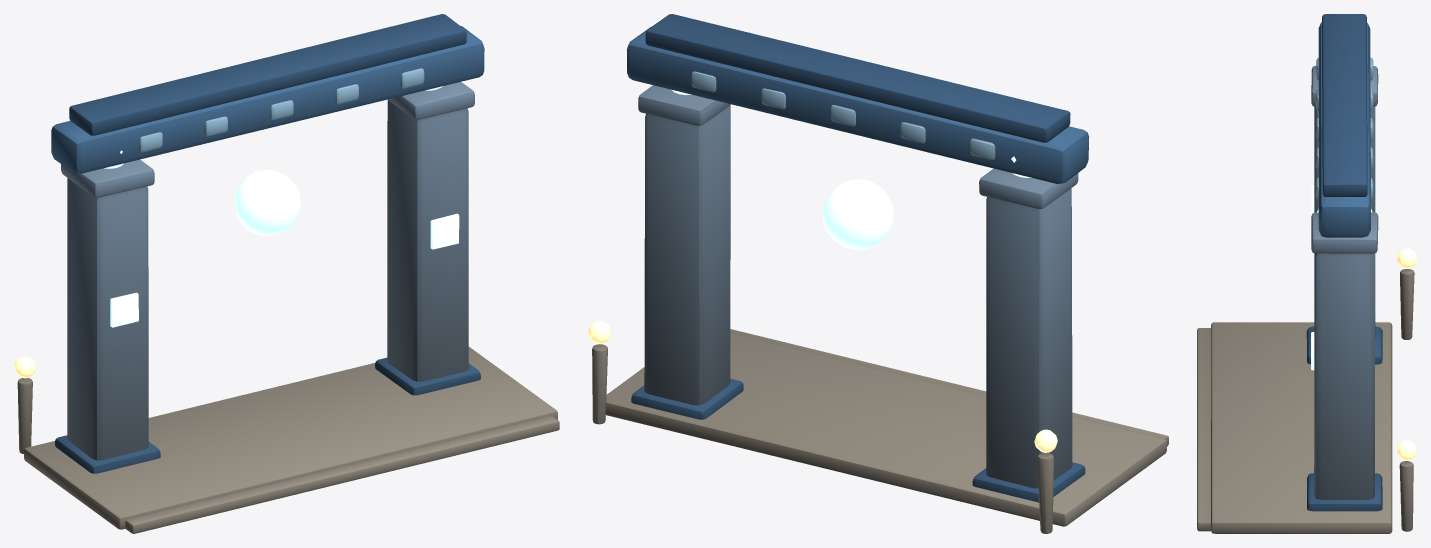
3 renders of one model, left to right at view 1: azimuth 30°, elevation 25°; view 2: azimuth 150°, elevation 25°; view 3: azimuth 270°, elevation 25°, orthographic. The views are drawn at different scales.
Visible parts, largest first — view 1: gate_b5e7c6ad; view 2: gate_b5e7c6ad; view 3: gate_b5e7c6ad.
Part boxes in pixels (x1,y1,x2,y2): gate_b5e7c6ad: (14,14,559,533); gate_b5e7c6ad: (588,14,1168,533); gate_b5e7c6ad: (1197,14,1416,533).
Bounding box in the file's own units: 5.52 × 4.31 × 2.54.
